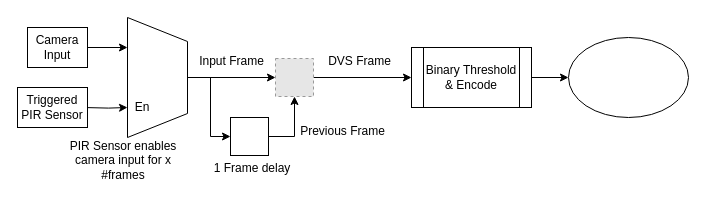
The diagram is 706 pixels wide and 199 high, and some of its shapes have lost their labels. Grey dashed boxes stand in for pictures. The box of each missing label's shape, as (x1, y1, x2, y2) in pixels:
Output Frame: (568, 36, 688, 118)
Z -1: (230, 116, 268, 156)
